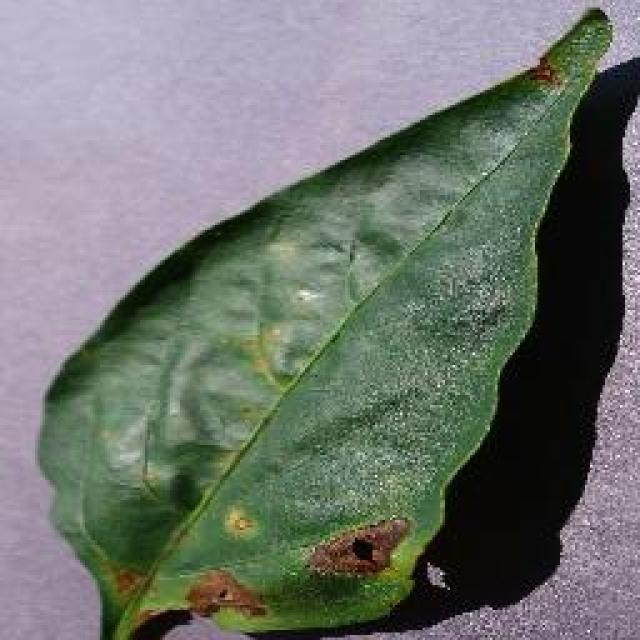Chilli_Bacterial_Spot: (32, 2, 618, 638), (102, 225, 440, 637), (110, 505, 422, 637), (300, 512, 415, 582), (235, 315, 320, 395), (180, 565, 270, 623), (220, 502, 260, 542), (523, 52, 565, 90), (107, 562, 145, 598), (345, 532, 380, 568), (227, 510, 255, 535)
